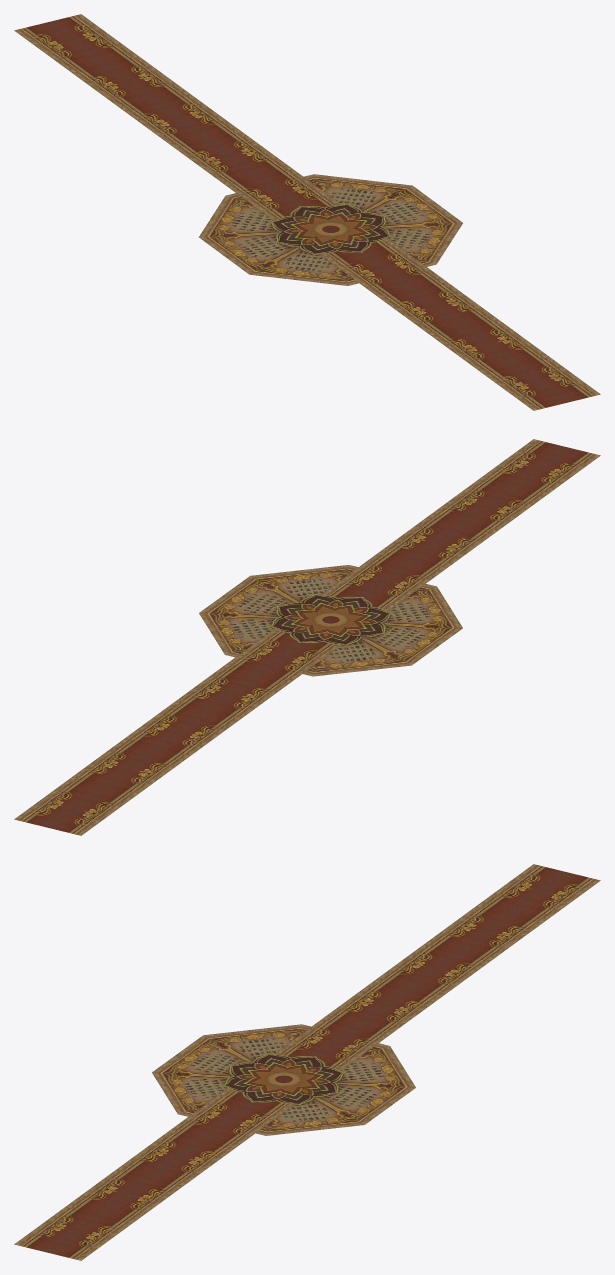
The model's file is fb_cangjingge_ditan01.FBX.
The picture shows the model from 3 angles, top to bottom: view 1: azimuth 30°, elevation 25°; view 2: azimuth 150°, elevation 25°; view 3: azimuth 330°, elevation 25°; orthographic projection.
Visible parts, largest first — view 1: fb_cangjingge_ditan01; view 2: fb_cangjingge_ditan01; view 3: fb_cangjingge_ditan01.
Part boxes in pixels (bbox=[...]): fb_cangjingge_ditan01: bbox=[14, 14, 600, 410]; fb_cangjingge_ditan01: bbox=[14, 439, 600, 835]; fb_cangjingge_ditan01: bbox=[14, 864, 600, 1260].
Bounding box in the file's own units: 2273 × 8.46 × 9572.
